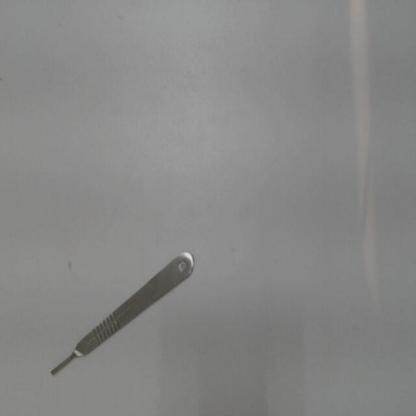No.3 BP Handle: (44, 235, 206, 390)
